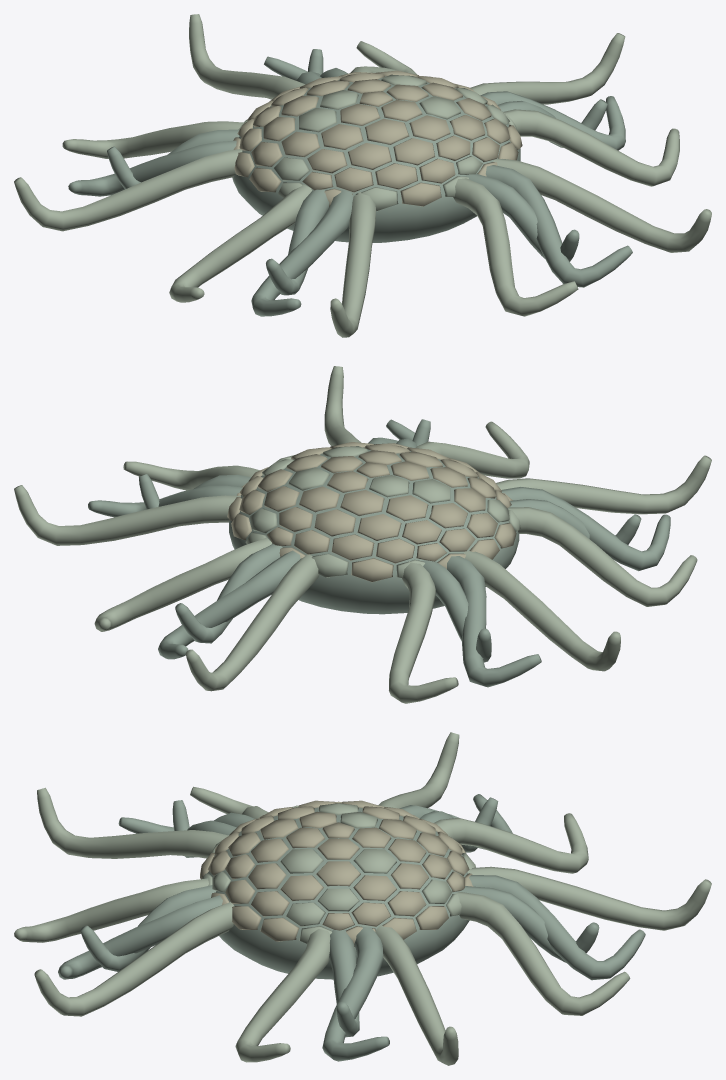
Rendered from sollasina.glb.
3 views of the same model, one above another, from view 1: azimuth 30°, elevation 25°; view 2: azimuth 150°, elevation 25°; view 3: azimuth 270°, elevation 25° (orthographic).
Visible parts, largest first — view 1: ordered curved tube feet with subtle plated rhythm, restrained original dorsal plate mosaic, low conservative body and soft podium roots; view 2: ordered curved tube feet with subtle plated rhythm, restrained original dorsal plate mosaic, low conservative body and soft podium roots; view 3: ordered curved tube feet with subtle plated rhythm, restrained original dorsal plate mosaic, low conservative body and soft podium roots.
Part boxes in pixels (x1,y1,x2,y2): ordered curved tube feet with subtle plated rhythm: [14, 14, 711, 337]; restrained original dorsal plate mosaic: [233, 70, 522, 211]; low conservative body and soft podium roots: [232, 76, 520, 242]; ordered curved tube feet with subtle plated rhythm: [14, 366, 711, 703]; restrained original dorsal plate mosaic: [227, 442, 520, 582]; low conservative body and soft podium roots: [229, 447, 519, 614]; ordered curved tube feet with subtle plated rhythm: [14, 732, 711, 1065]; restrained original dorsal plate mosaic: [200, 800, 475, 946]; low conservative body and soft podium roots: [207, 807, 469, 979].
Bounding box in the file's own units: 0.0613 × 0.012 × 0.0602.
